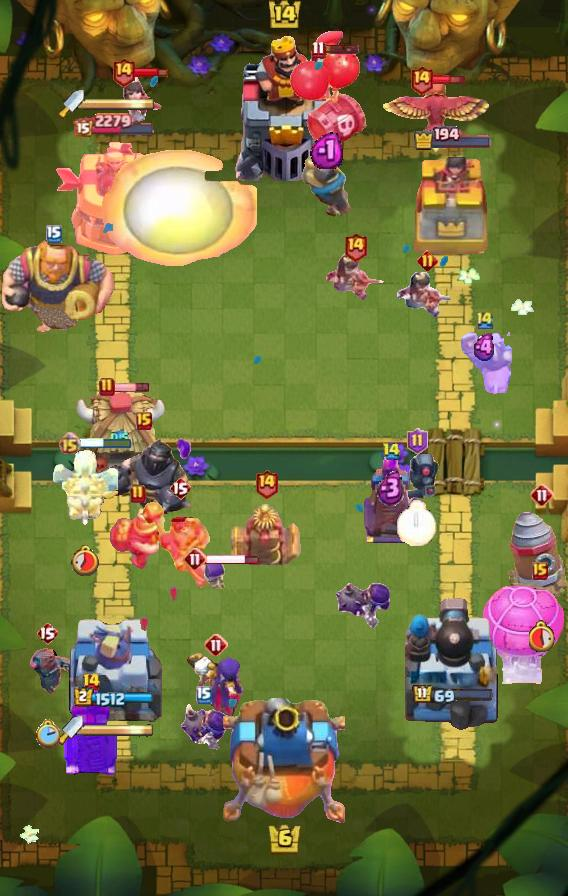axe: (186, 650, 246, 718)
bandit: (107, 506, 169, 572)
bar: (54, 142, 173, 256), (66, 611, 162, 731)
battle-ram: (19, 642, 75, 698), (392, 450, 442, 504)
cannon-cart: (480, 579, 568, 687)
electro-spirit: (310, 131, 343, 170), (377, 470, 405, 506), (471, 334, 499, 363), (111, 429, 130, 446)
elixir: (397, 500, 437, 546), (70, 544, 101, 576), (528, 620, 555, 652), (36, 719, 60, 748)
emote: (205, 553, 260, 567), (80, 438, 133, 451), (430, 74, 465, 87), (324, 43, 361, 55), (133, 66, 168, 78), (113, 383, 150, 394)
firecracker: (301, 149, 352, 219)
freeze: (140, 502, 220, 596), (458, 328, 512, 400)
giant-skeleton: (0, 235, 116, 335)
goblin: (198, 558, 228, 598)
goblin-ball: (333, 573, 393, 631), (178, 704, 230, 760)
goblin-brawler: (231, 500, 301, 568)
golden-knight: (379, 79, 491, 157)
ice-spirit-evolution-symbol: (61, 683, 121, 779), (361, 453, 421, 545)
king-tower: (223, 31, 345, 181), (223, 698, 345, 826)
king-tower-bar: (84, 97, 156, 111), (83, 723, 155, 737)
magic-archer: (508, 509, 568, 603)
mini-pekka: (52, 444, 118, 530)
prince: (72, 390, 166, 480)
queen-tower: (410, 154, 496, 256)
royal-guardian: (97, 425, 191, 521)
royal-recruit-evolution: (289, 48, 371, 154)
selected: (72, 112, 155, 137), (413, 126, 493, 151), (412, 684, 494, 706), (73, 687, 154, 709)
skeleton-dragon: (324, 251, 386, 303), (396, 272, 458, 324), (115, 74, 165, 126)
text: (112, 56, 137, 87), (410, 65, 435, 96), (344, 231, 369, 262), (254, 469, 279, 500), (530, 483, 554, 507), (183, 547, 207, 571), (204, 633, 228, 657), (407, 428, 428, 454), (58, 433, 81, 456), (169, 476, 191, 500), (36, 621, 58, 645), (417, 250, 438, 271), (475, 309, 495, 331), (83, 672, 102, 692), (383, 442, 402, 461), (99, 377, 115, 397), (130, 484, 146, 504), (46, 225, 62, 243), (136, 412, 152, 430), (532, 562, 548, 580), (196, 686, 212, 704), (311, 41, 325, 60)
tower-bar: (405, 595, 501, 731)
valkyrie: (101, 147, 257, 269)
